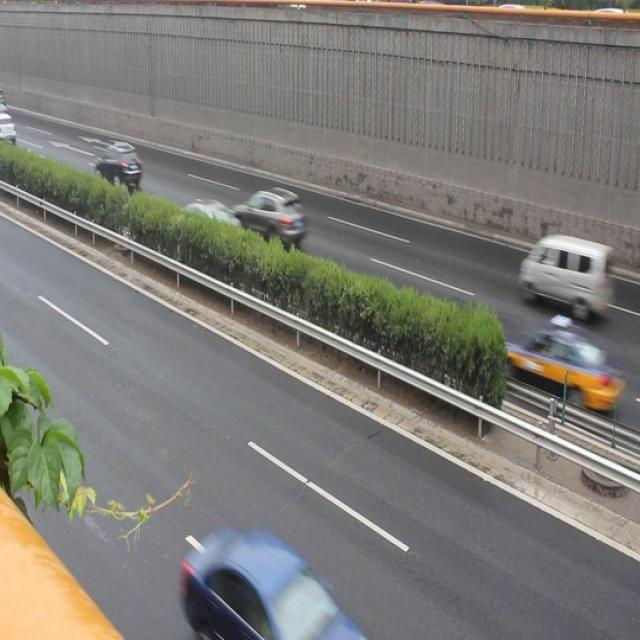car: (178, 532, 360, 640), (504, 318, 617, 419), (233, 184, 310, 252), (176, 191, 242, 250), (92, 144, 144, 194)
truck: (516, 230, 615, 320)
